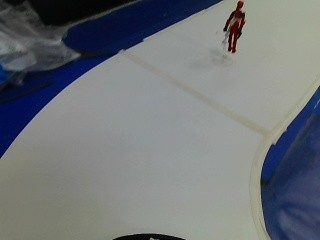pedestrian: (222, 0, 245, 54)
